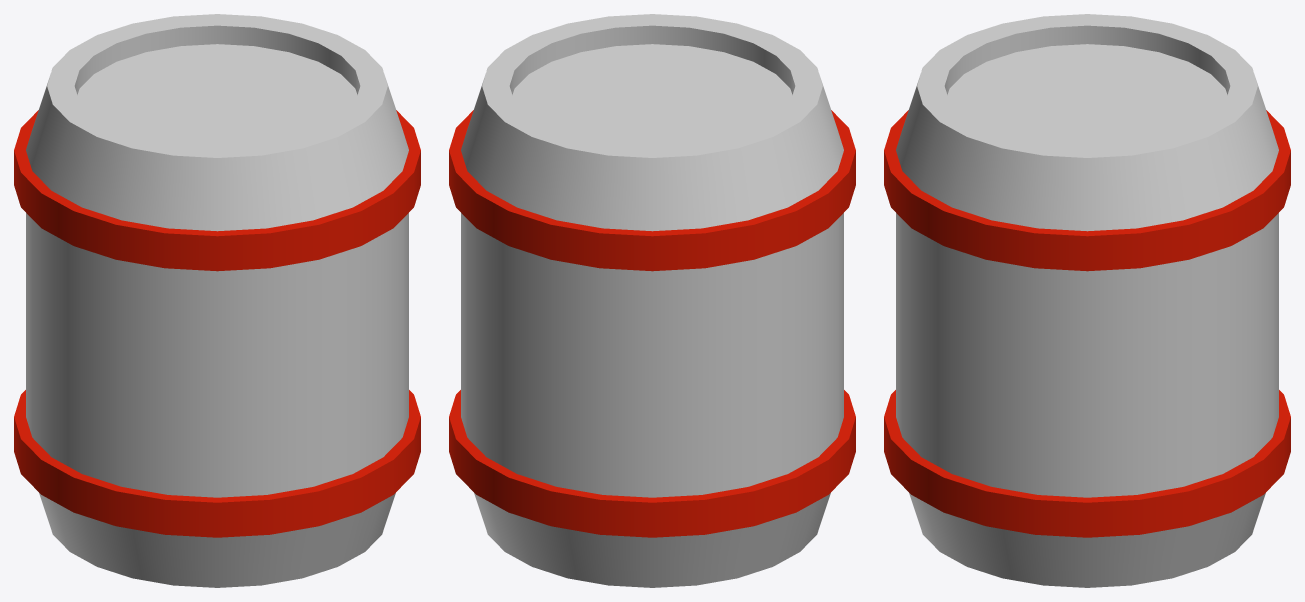
File: Barril.fbx
3 renders of one model, left to right at view 1: azimuth 30°, elevation 25°; view 2: azimuth 150°, elevation 25°; view 3: azimuth 270°, elevation 25°, orthographic.
Visible parts, largest first — view 1: Barril-col; view 2: Barril-col; view 3: Barril-col.
Boxes of the visible parts, <box> form: Barril-col: <box>14,14,420,587</box>; Barril-col: <box>449,14,855,587</box>; Barril-col: <box>884,14,1290,587</box>.
Bounding box in the file's own units: 71.58 × 83.44 × 71.58.
